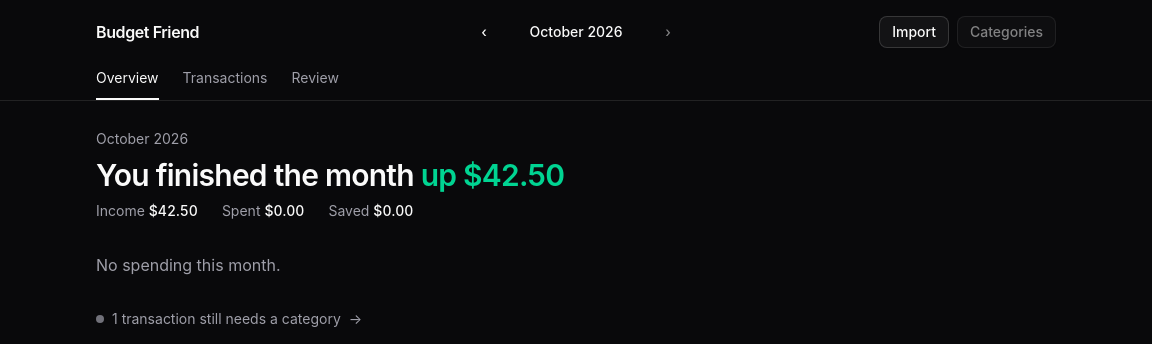
Scenario: the tabs move between the three views
Step 1. Click the link "Transactions" → (225, 78), box [183,69,268,86]
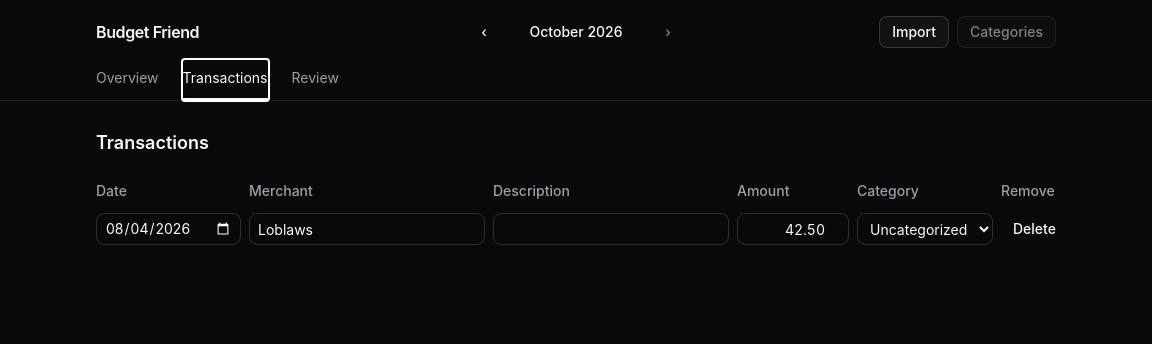
Check: the field showing "Loblaws" is shown, box [249,213,485,245]
Step 2. Click the link "Review" → (315, 78), box [292,69,339,86]
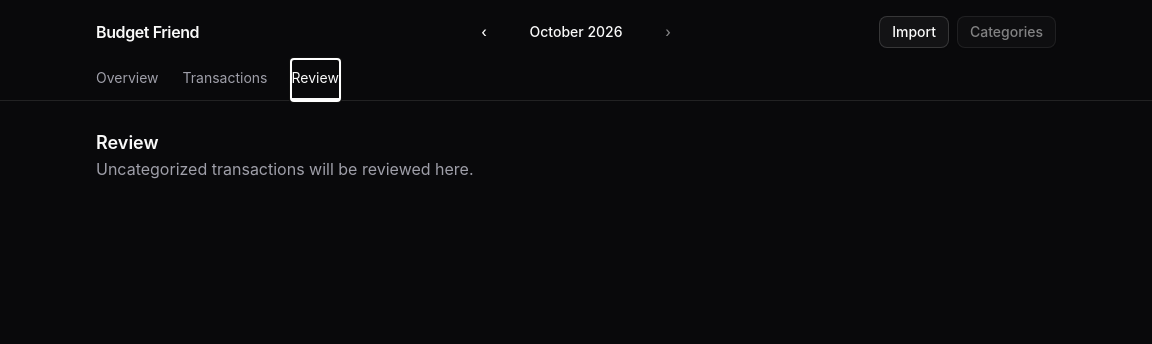
Check: the field showing "Loblaws" is not shown
Check: the heading "Review" is shown, box [96,132,159,153]
Step 3. Click the link "Overview" → (127, 78), box [96,69,159,86]
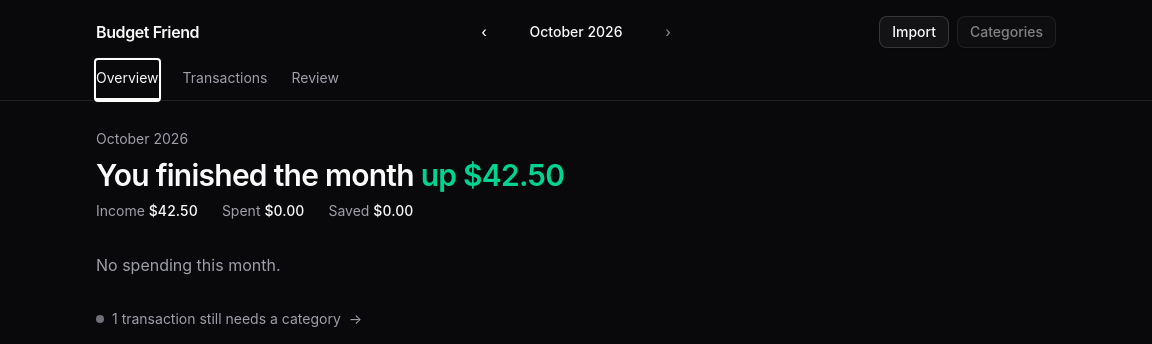
Check: the element named "overview" is shown, box [96,130,564,327]
